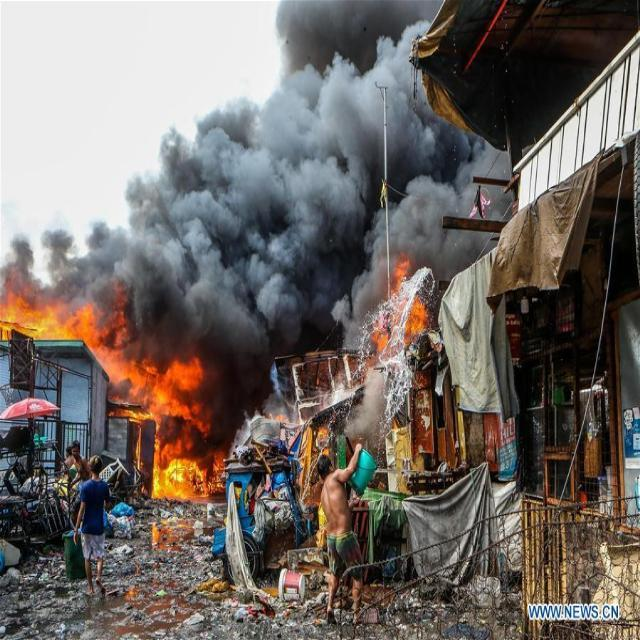Fire: (104, 342, 212, 500), (0, 282, 130, 360), (375, 262, 435, 346)
Smoke: (128, 6, 514, 370)
